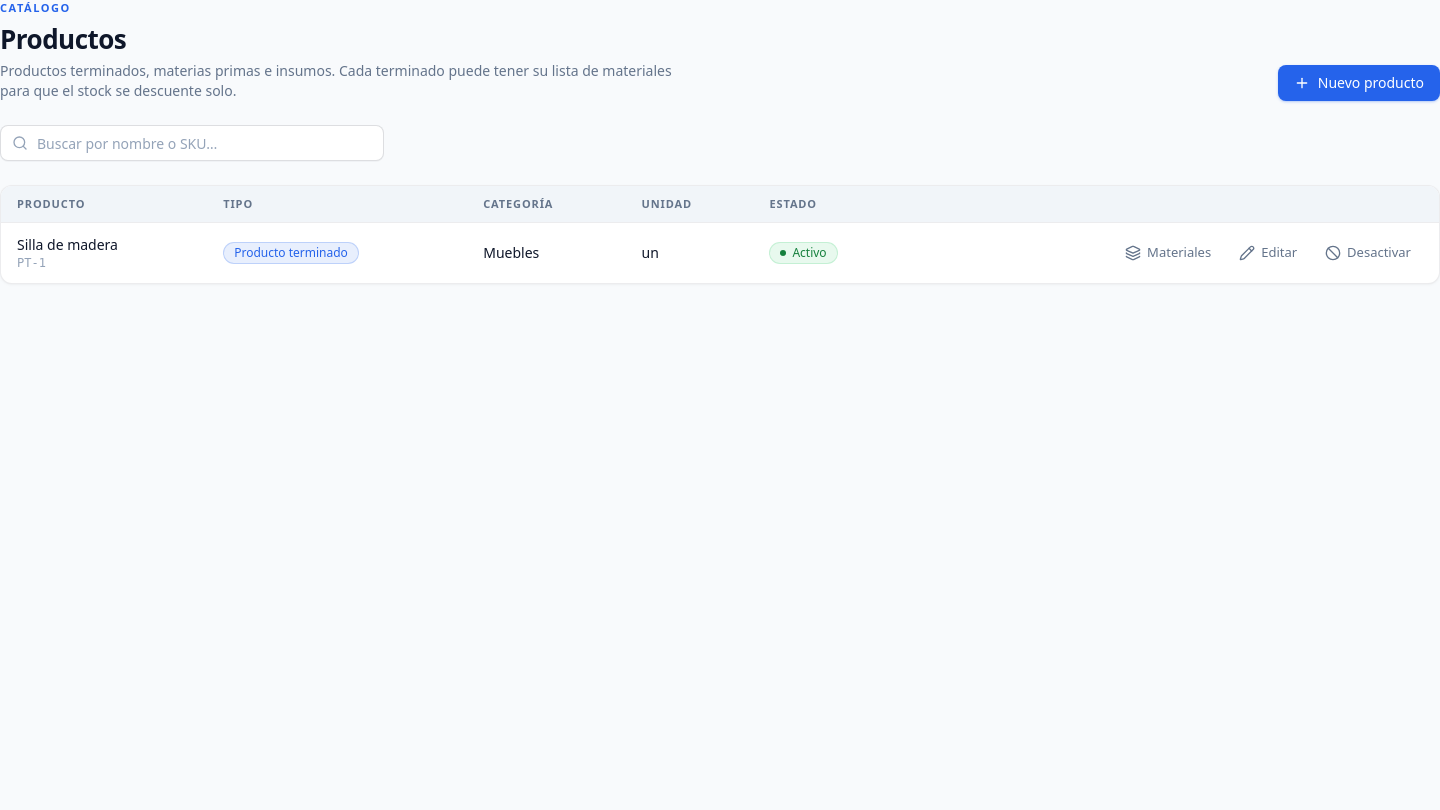
ProductsPage › opens the bill-of-materials editor for a finished good
Click the button "Materiales".
click(1168, 253)  # box [1113, 237, 1223, 269]
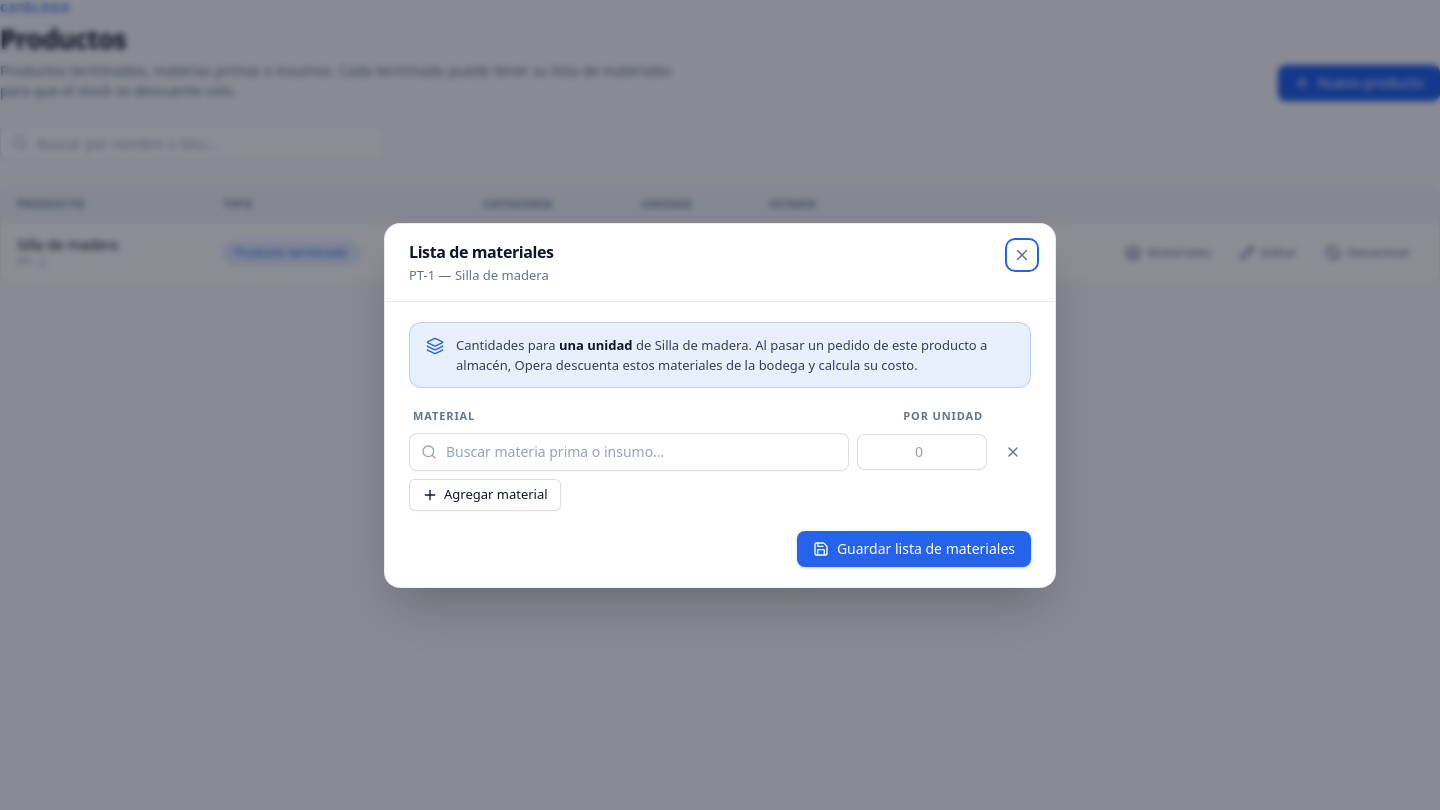
Check: the button "Guardar lista de materiales" is shown, box [797, 530, 1031, 566]
Click the button named "Cerrar".
click(1022, 254)  # box [1007, 240, 1037, 270]
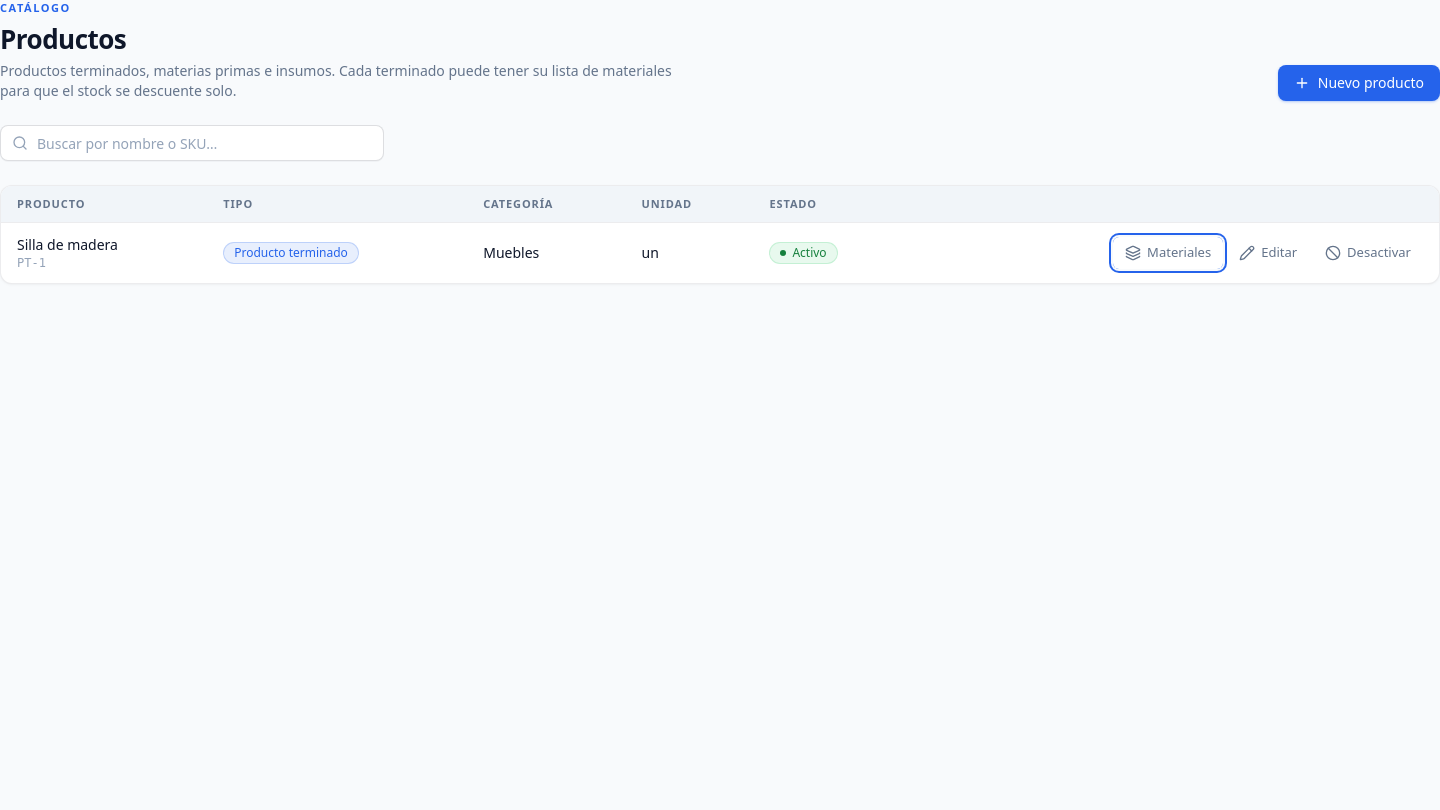
Check: the dialog is gone
